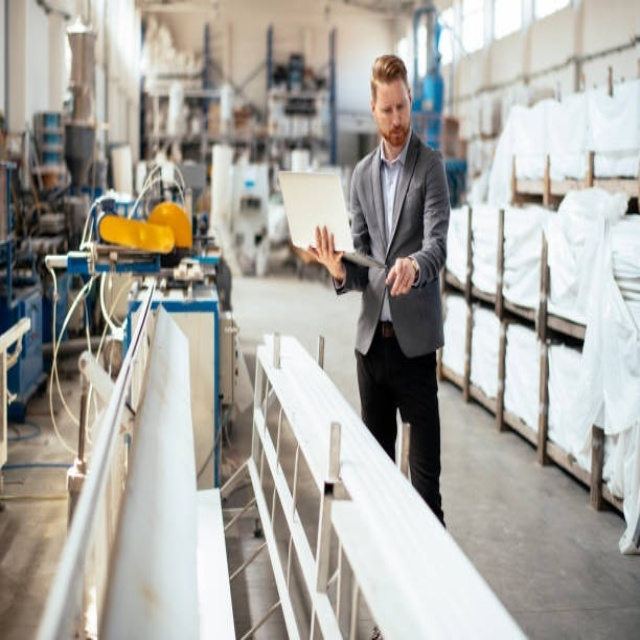Sin_gafas: (373, 91, 411, 115)
Sin_guantes: (306, 227, 344, 278), (385, 255, 419, 295)
Sin_mascara: (385, 124, 406, 144)
